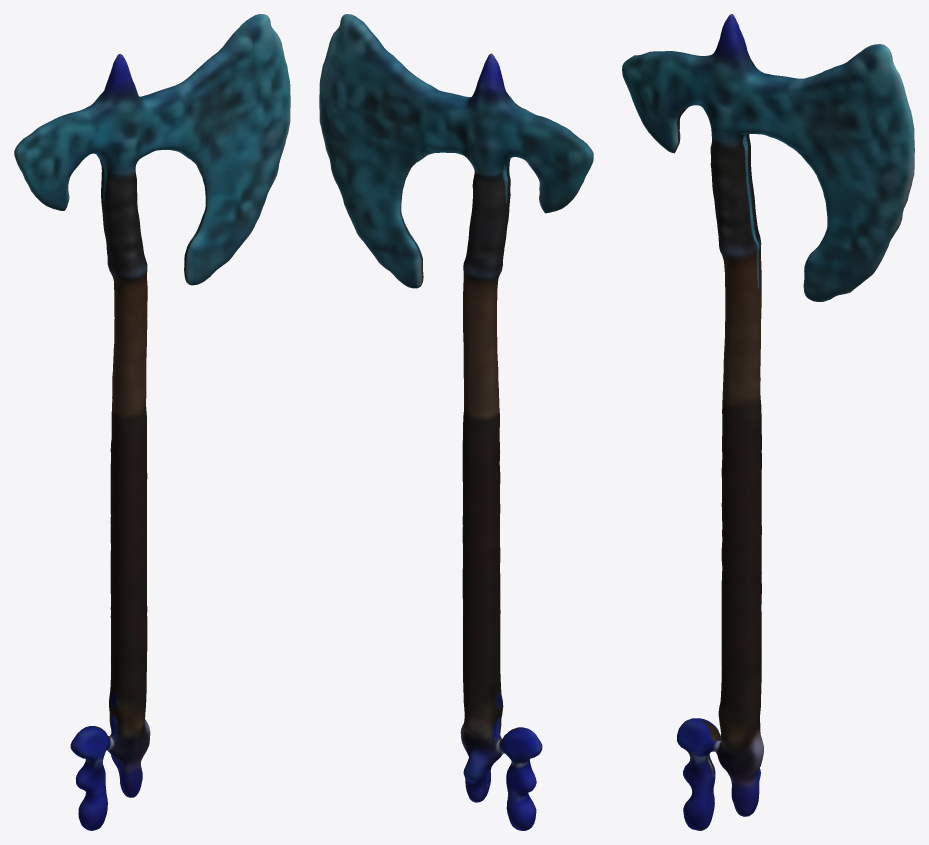
File: ced5a6a550d8_a_mythical_battle_a.fbx
The picture shows the model from 3 angles, left to right: view 1: azimuth 30°, elevation 25°; view 2: azimuth 150°, elevation 25°; view 3: azimuth 330°, elevation 25°; orthographic projection. The views are drawn at different scales.
Parts seen in each view (by area): view 1: mesh; view 2: mesh; view 3: mesh.
Boxes of the visible parts, x1,y1,x2,y2 form: mesh: (14, 14, 290, 830); mesh: (319, 14, 593, 830); mesh: (622, 14, 914, 830).
Size of the model in its own units: 37 by 99.79 by 5.49.
